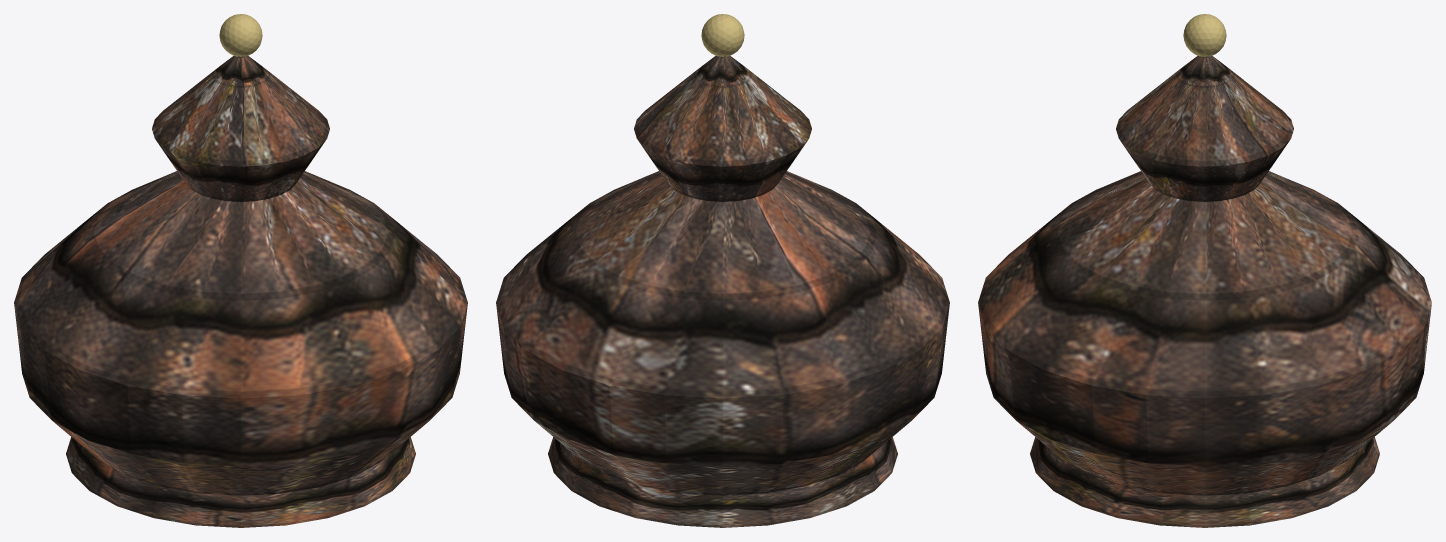
File: zwiebelhelm_uhrturm_4m.glb
The picture shows the model from 3 angles, left to right: view 1: azimuth 30°, elevation 25°; view 2: azimuth 150°, elevation 25°; view 3: azimuth 270°, elevation 25°; orthographic projection.
Visible parts, largest first — view 1: onion_copper_patination, copper_finial; view 2: onion_copper_patination, copper_finial; view 3: onion_copper_patination, copper_finial.
Boxes of the visible parts, box(x1,y1,x2,y2) form: onion_copper_patination: box(14, 55, 467, 527); copper_finial: box(219, 14, 262, 56); onion_copper_patination: box(496, 55, 949, 527); copper_finial: box(701, 14, 744, 56); onion_copper_patination: box(978, 55, 1431, 527); copper_finial: box(1183, 14, 1226, 56).
Bounding box in the file's own units: 4.62 × 4.92 × 4.62.
1 material, 1 textured.
